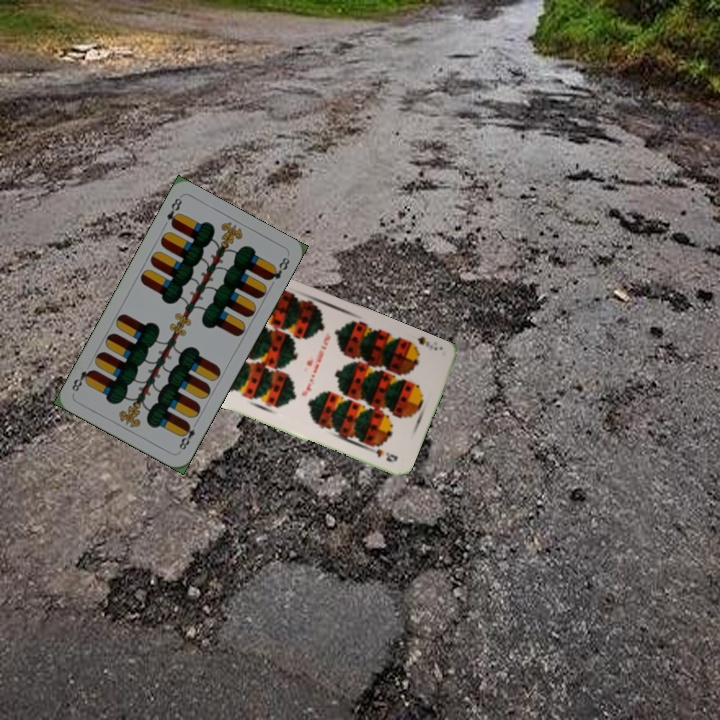E8: (175, 417, 200, 453), (163, 194, 185, 230)
S9: (403, 333, 440, 353)
